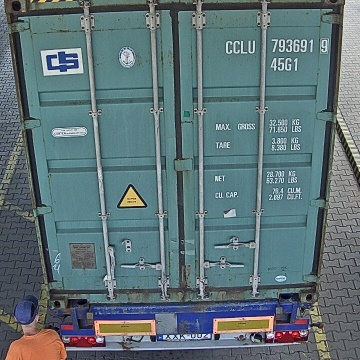serial_id: (225, 39, 328, 54)
